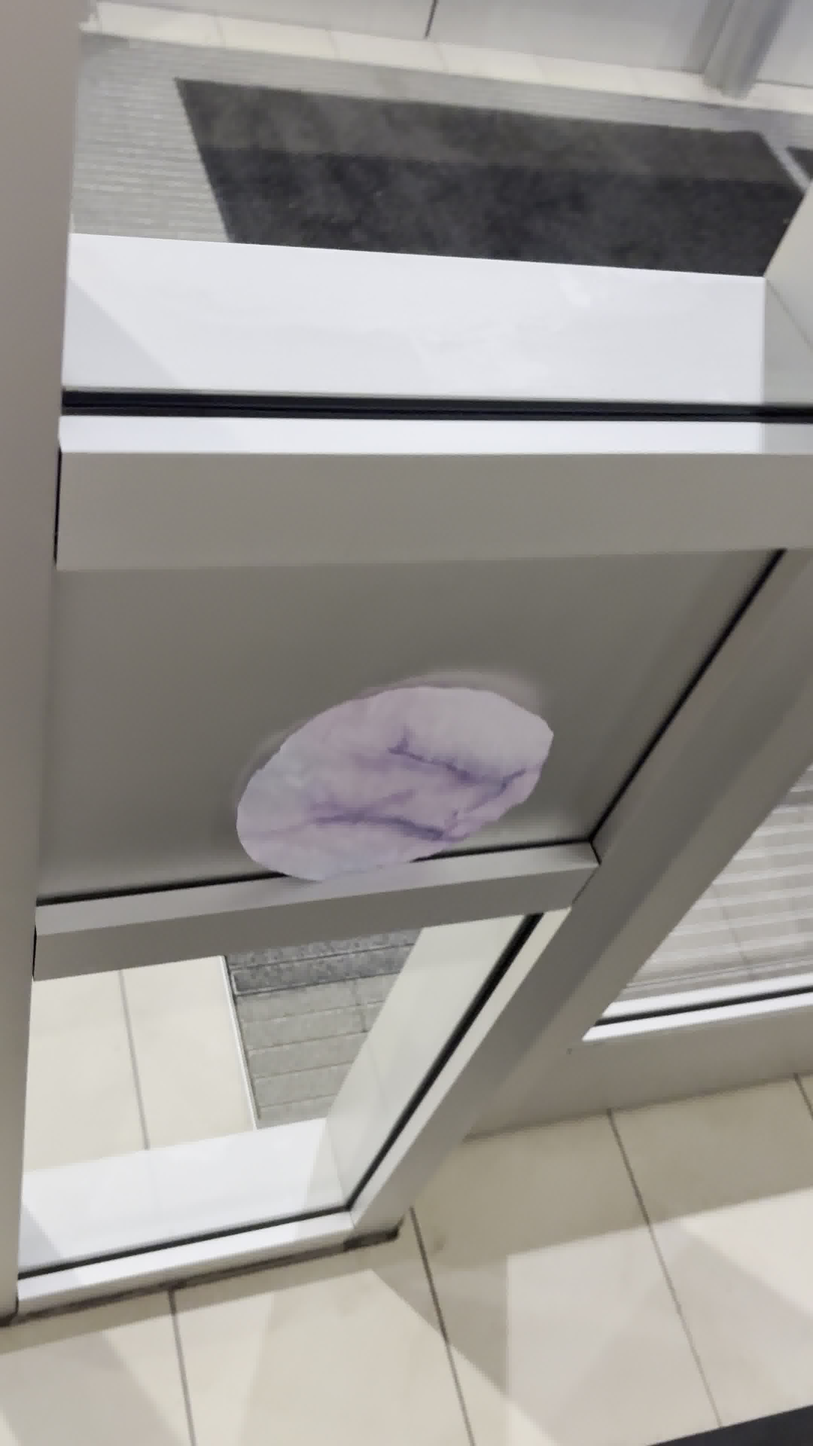Target: (229, 678, 562, 884)
